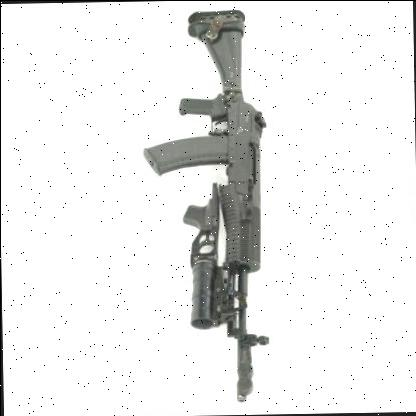rifle: (127, 7, 294, 410)
